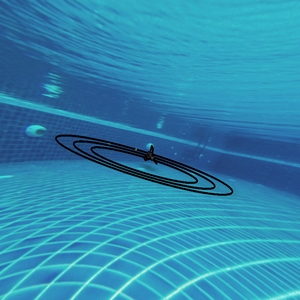circle: (50, 113, 262, 231)
submarine: (144, 143, 160, 161)
